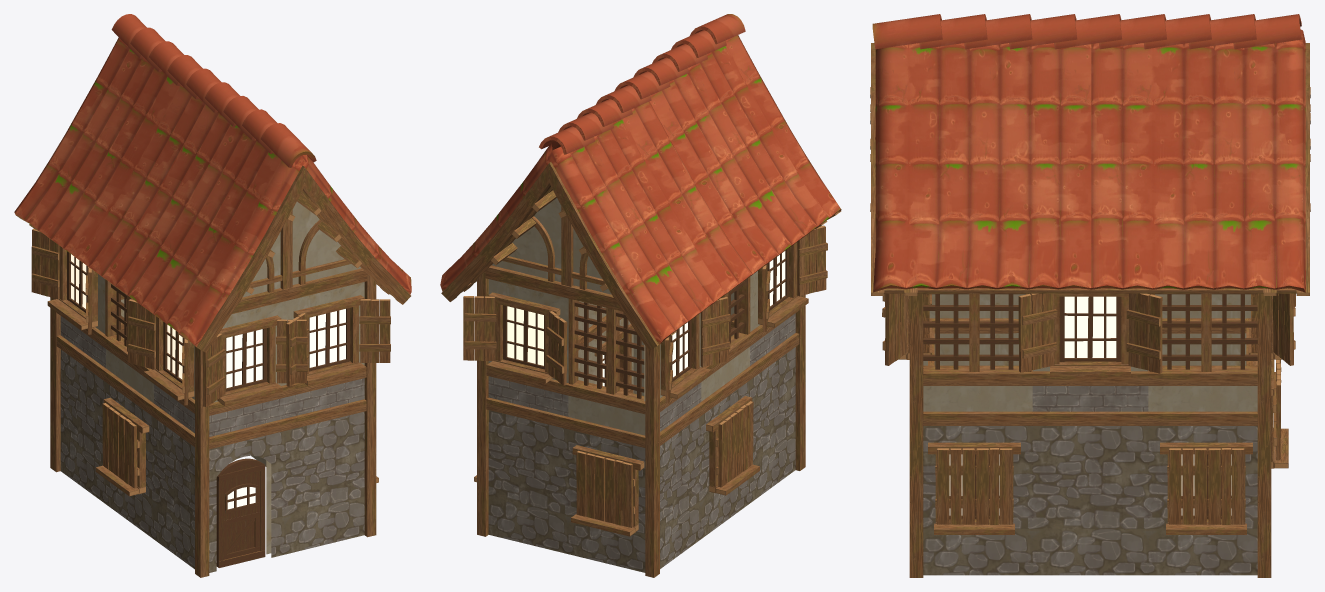
File: kit-house.glb
The picture shows the model from 3 angles, left to right: view 1: azimuth 30°, elevation 25°; view 2: azimuth 150°, elevation 25°; view 3: azimuth 270°, elevation 25°; orthographic projection. The views are drawn at different scales.
Visible parts, largest first — view 1: house; view 2: house; view 3: house.
Part boxes in pixels (box(x1,y1,x2,y2)): house: box(14, 14, 411, 577); house: box(440, 14, 841, 577); house: box(870, 14, 1310, 577).
Size of the model in its own units: 5.51 by 9.72 by 7.59.
Materials: 7 (6 with a texture image).
